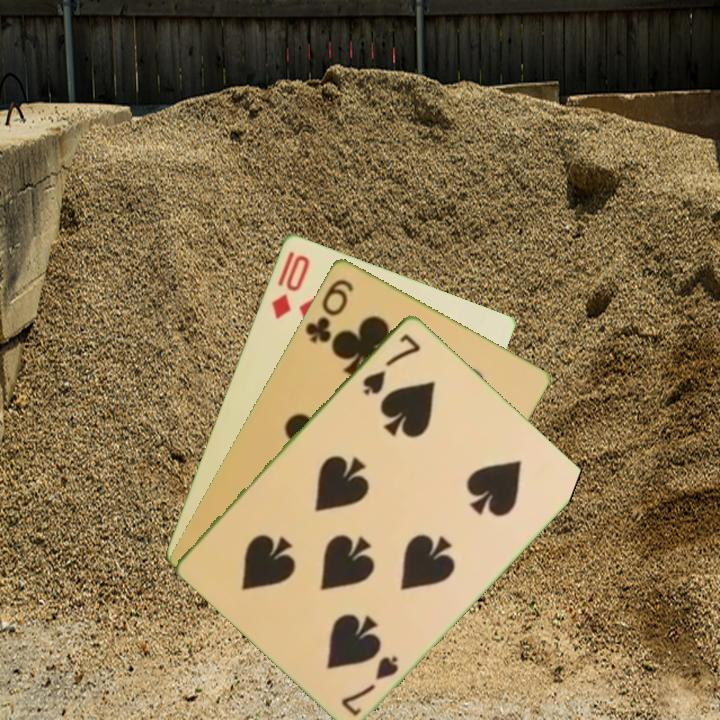10d: (267, 250, 313, 321)
6c: (301, 275, 357, 346)
7s: (359, 329, 424, 397), (337, 652, 402, 719)
